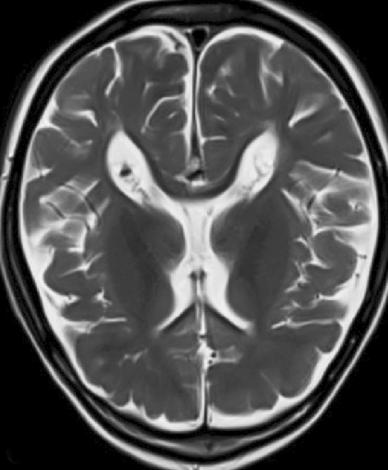Normal_Brain: (1, 1, 388, 470)
